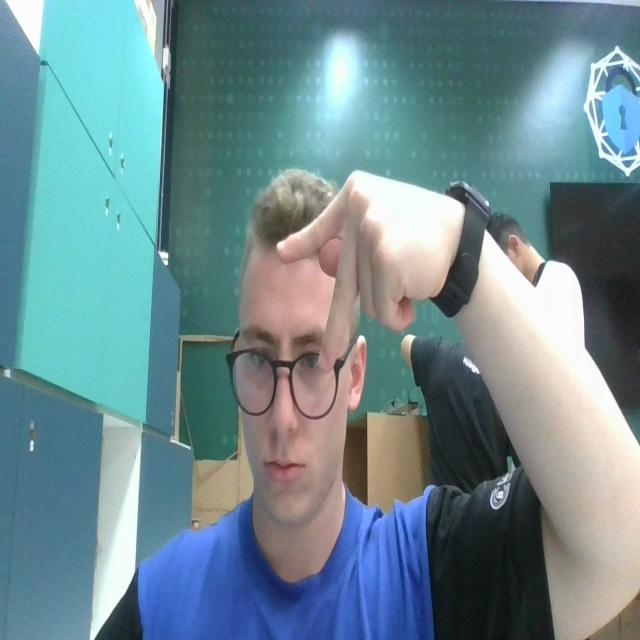P: (276, 164, 445, 374)
